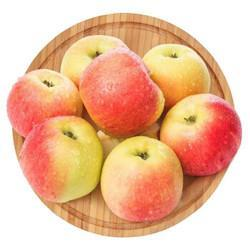apple: (12, 121, 103, 211), (78, 46, 167, 138), (106, 140, 189, 223), (159, 92, 240, 176), (6, 67, 80, 136), (141, 43, 210, 109), (62, 34, 129, 86)
